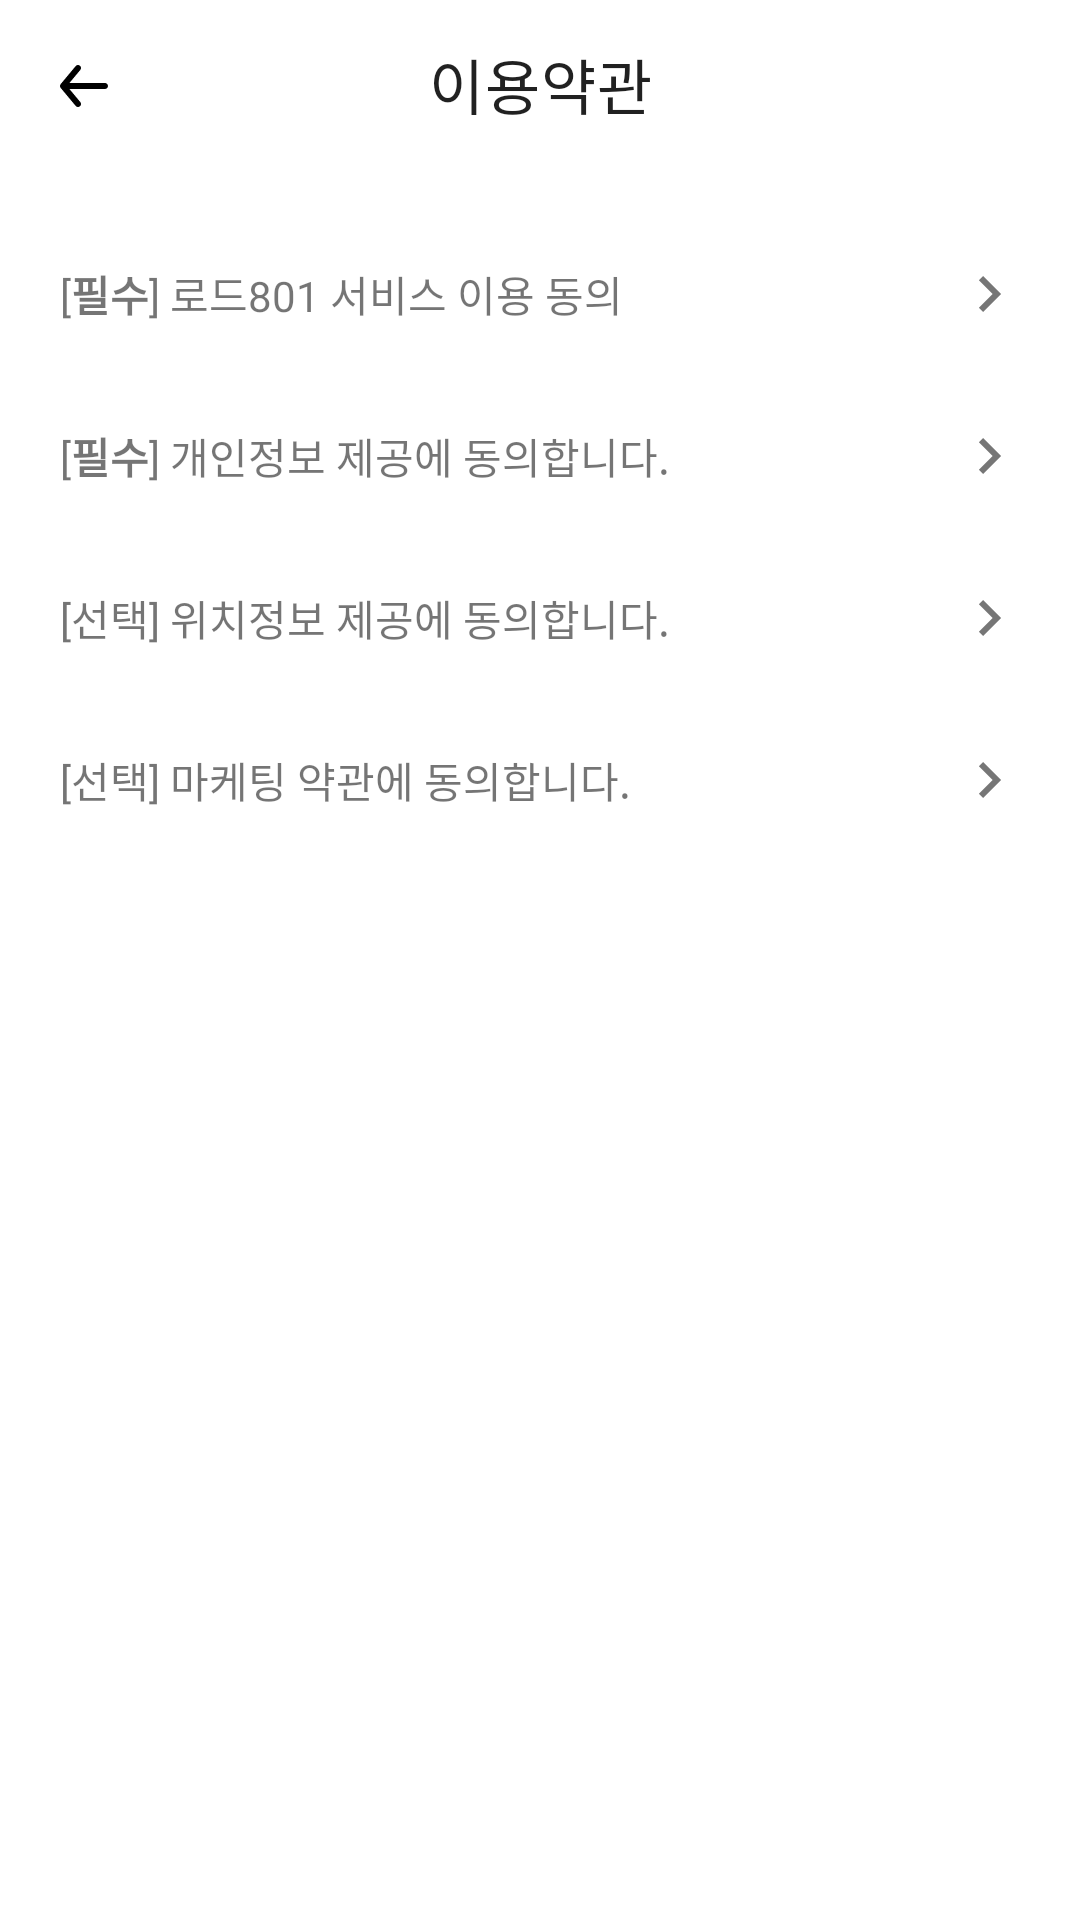

Icon click points for this 1080px×1920px phone screenshot, format (x,y):
arrow right: (990,294), (990,456), (990,618), (990,780)
